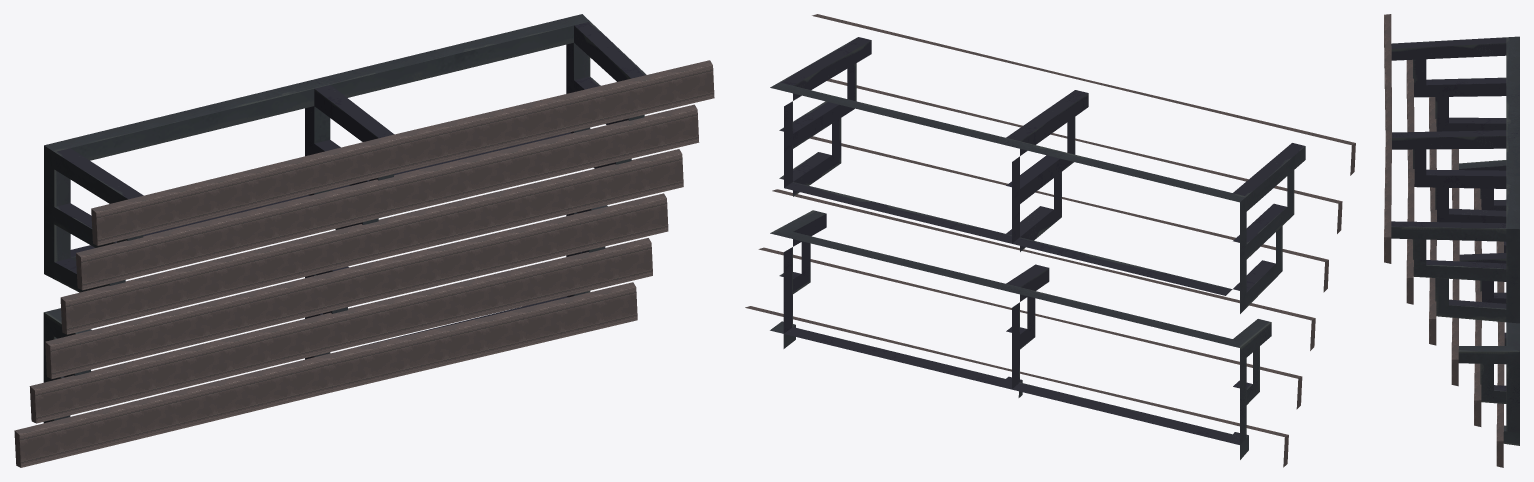
Rendered from bleacher_12x6.glb.
3 renders of one model, left to right at view 1: azimuth 30°, elevation 25°; view 2: azimuth 150°, elevation 25°; view 3: azimuth 270°, elevation 25°, orthographic. The views are drawn at different scales.
Visible parts, largest first — view 1: spectators.bleacher_12x6-Mesh[1], spectators.bleacher_12x6-Mesh[0]; view 2: spectators.bleacher_12x6-Mesh[0], spectators.bleacher_12x6-Mesh[1]; view 3: spectators.bleacher_12x6-Mesh[0], spectators.bleacher_12x6-Mesh[1].
Part boxes in pixels (left/top/right/bottom): spectators.bleacher_12x6-Mesh[1]: left=14, top=60, right=714, bottom=467; spectators.bleacher_12x6-Mesh[0]: left=43, top=14, right=646, bottom=423; spectators.bleacher_12x6-Mesh[0]: left=770, top=37, right=1305, bottom=459; spectators.bleacher_12x6-Mesh[1]: left=745, top=14, right=1355, bottom=467; spectators.bleacher_12x6-Mesh[0]: left=1391, top=36, right=1519, bottom=445; spectators.bleacher_12x6-Mesh[1]: left=1384, top=14, right=1504, bottom=467.
Size of the model in its own units: 11.67 by 5.69 by 3.02.
2 materials, 2 textured.
